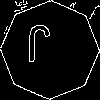J: (25, 25, 51, 72)
